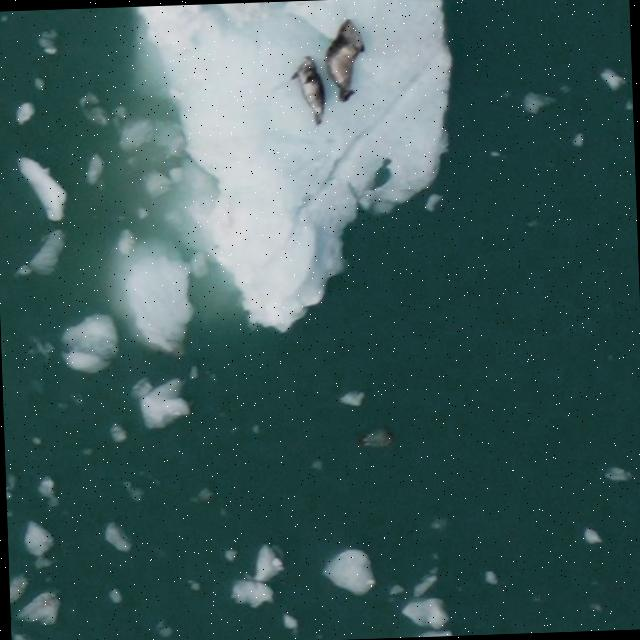seal: (316, 14, 370, 101), (284, 53, 338, 129)
